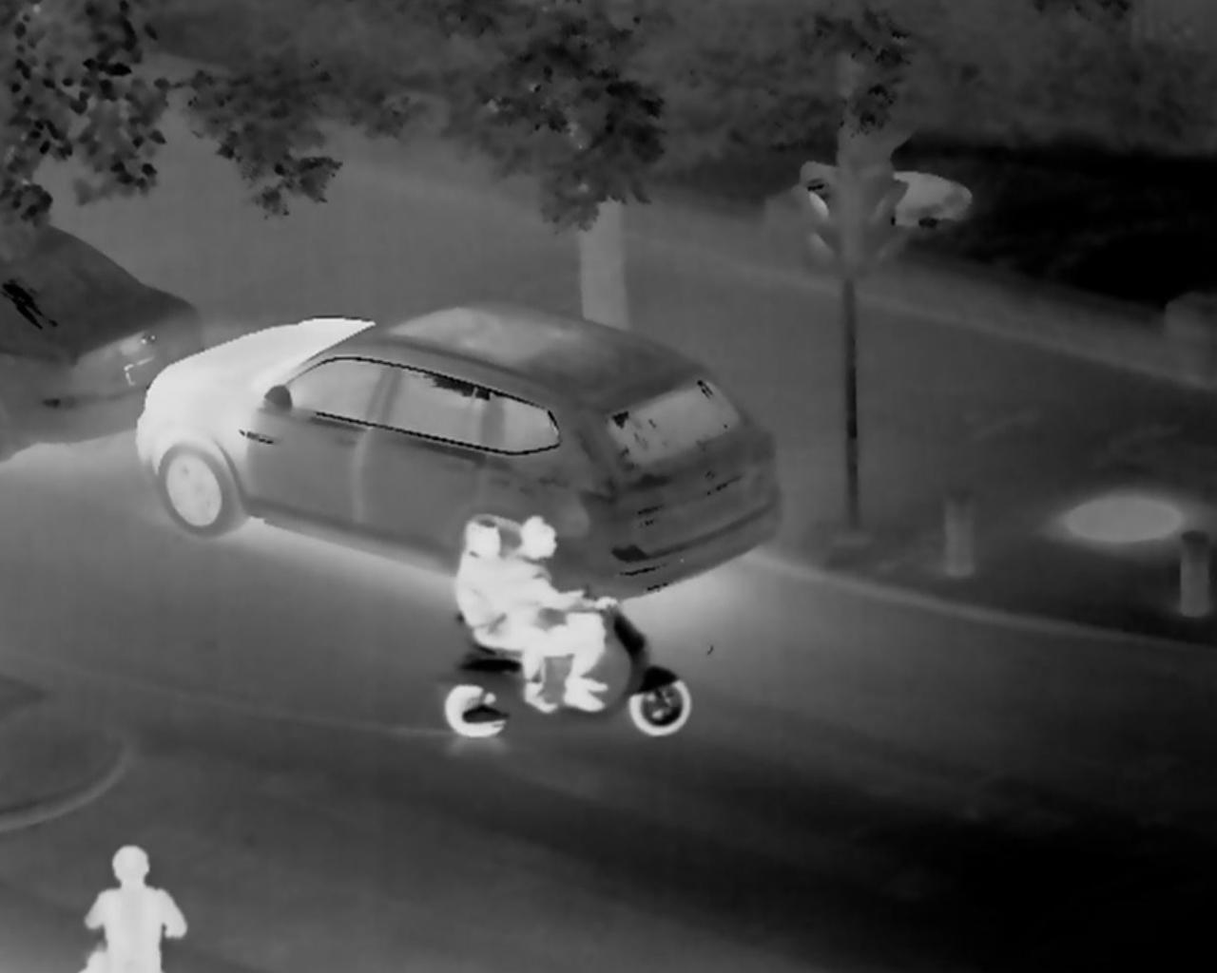person: (449, 510, 563, 713), (505, 512, 616, 720), (78, 835, 188, 973)
